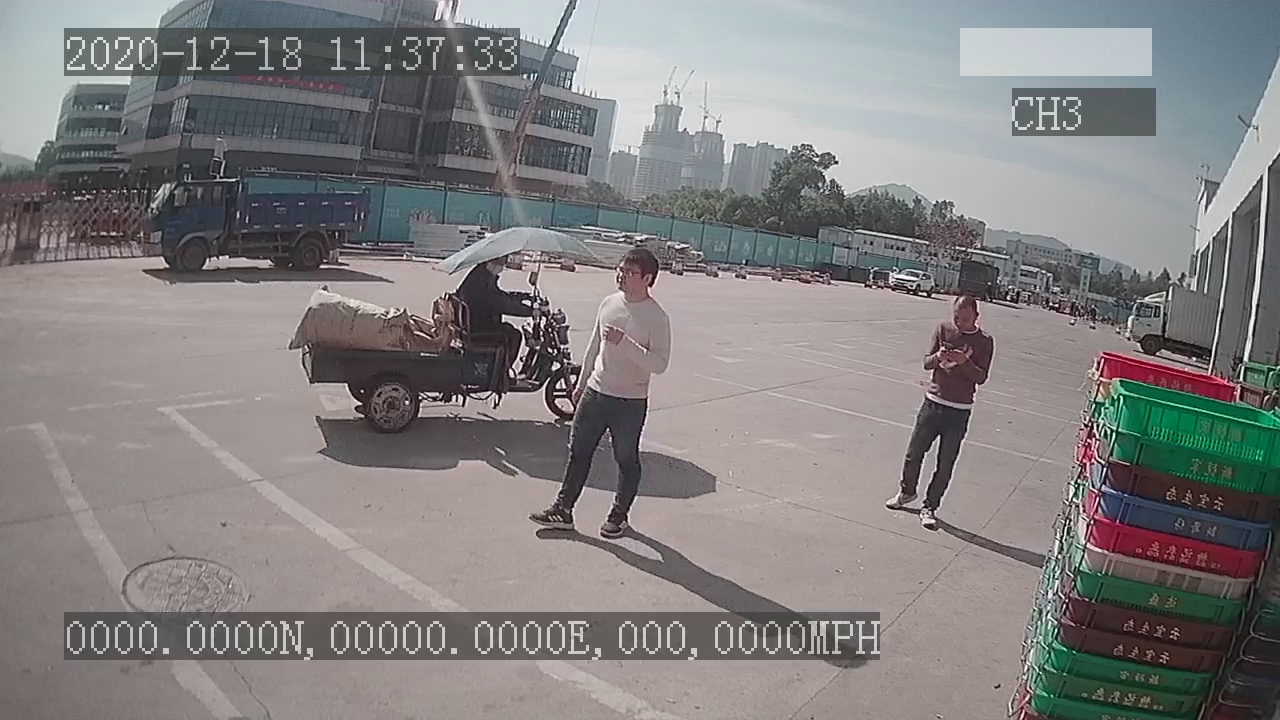person: (877, 295, 997, 532)
